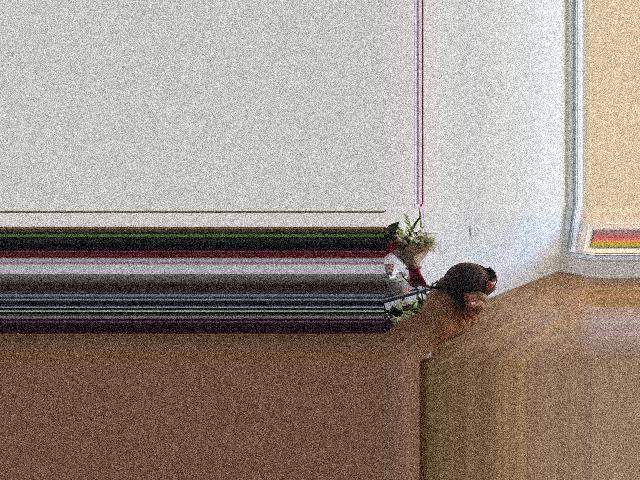beet: (401, 262, 497, 296)
